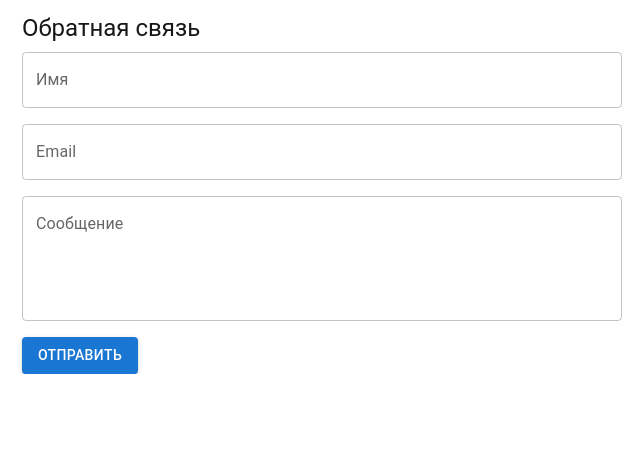
ContactForm › validates required fields and shows success alert
# submit empty
Click the button "Отправить" at [80, 356], box [22,337,138,374]
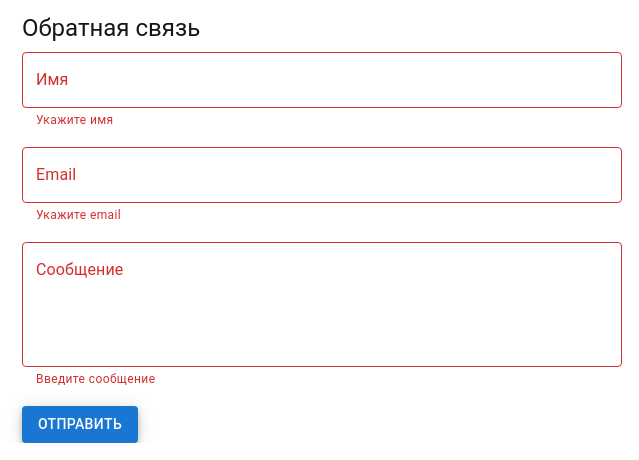
Check: the text "Укажите имя" is shown, box [36,113,114,127]
Check: the text "Укажите email" is shown, box [36,208,121,222]
Check: the text "Введите сообщение" is shown, box [36,372,155,386]
# fill with valid data
Type "Иван" into the field labelled "Имя" at [322, 80], box [22,52,622,108]
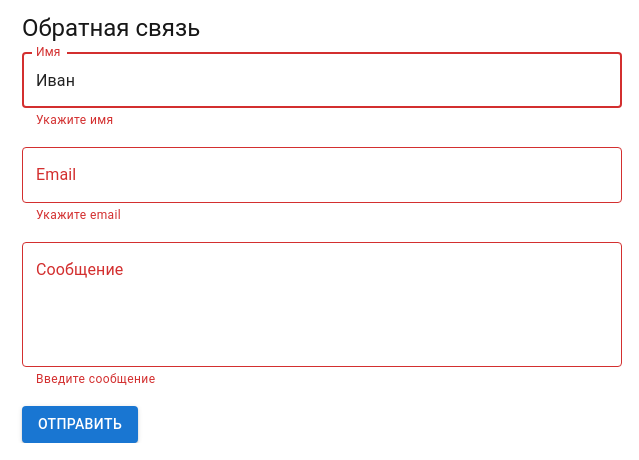
Type "ivan@example.com" into the field labelled "Email" at [322, 175], box [22,147,622,203]
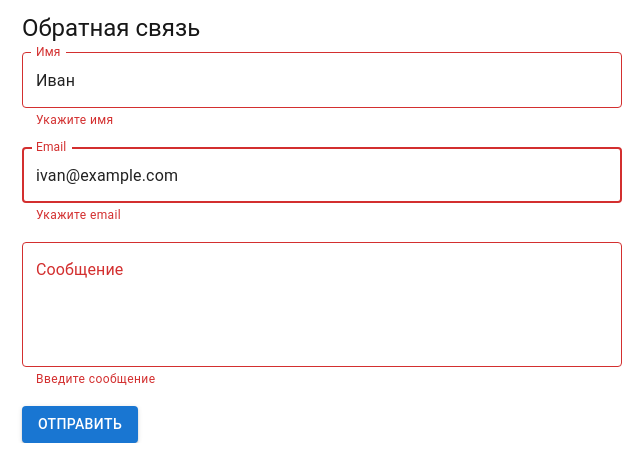
Type "Привет!" into the text box labelled "Сообщение" at [322, 305], box [36,259,608,351]
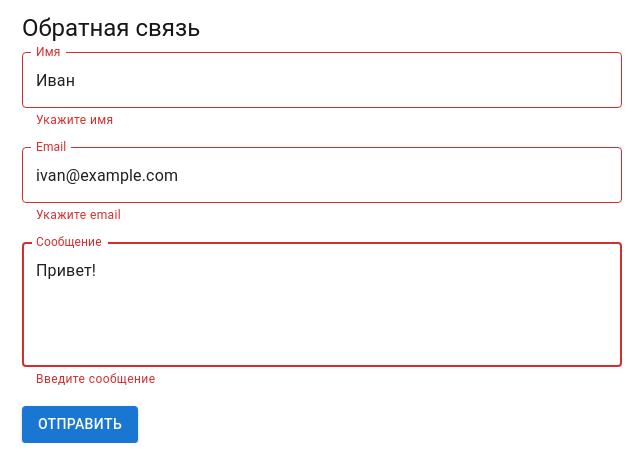
Click the button "Отправить" at [80, 424], box [22,406,138,443]
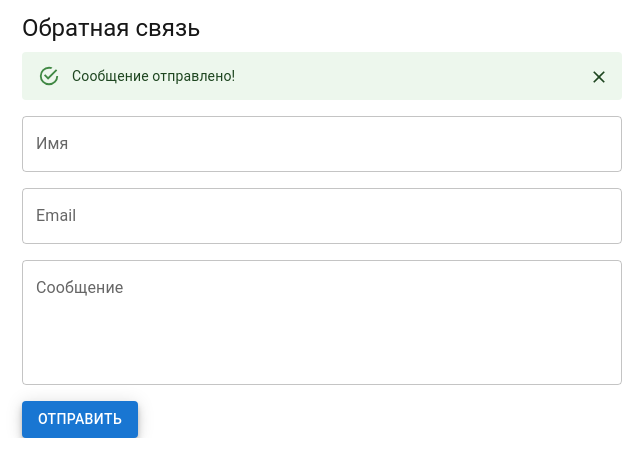
Check: the text "Сообщение отправлено!" is shown, box [72,68,235,84]
